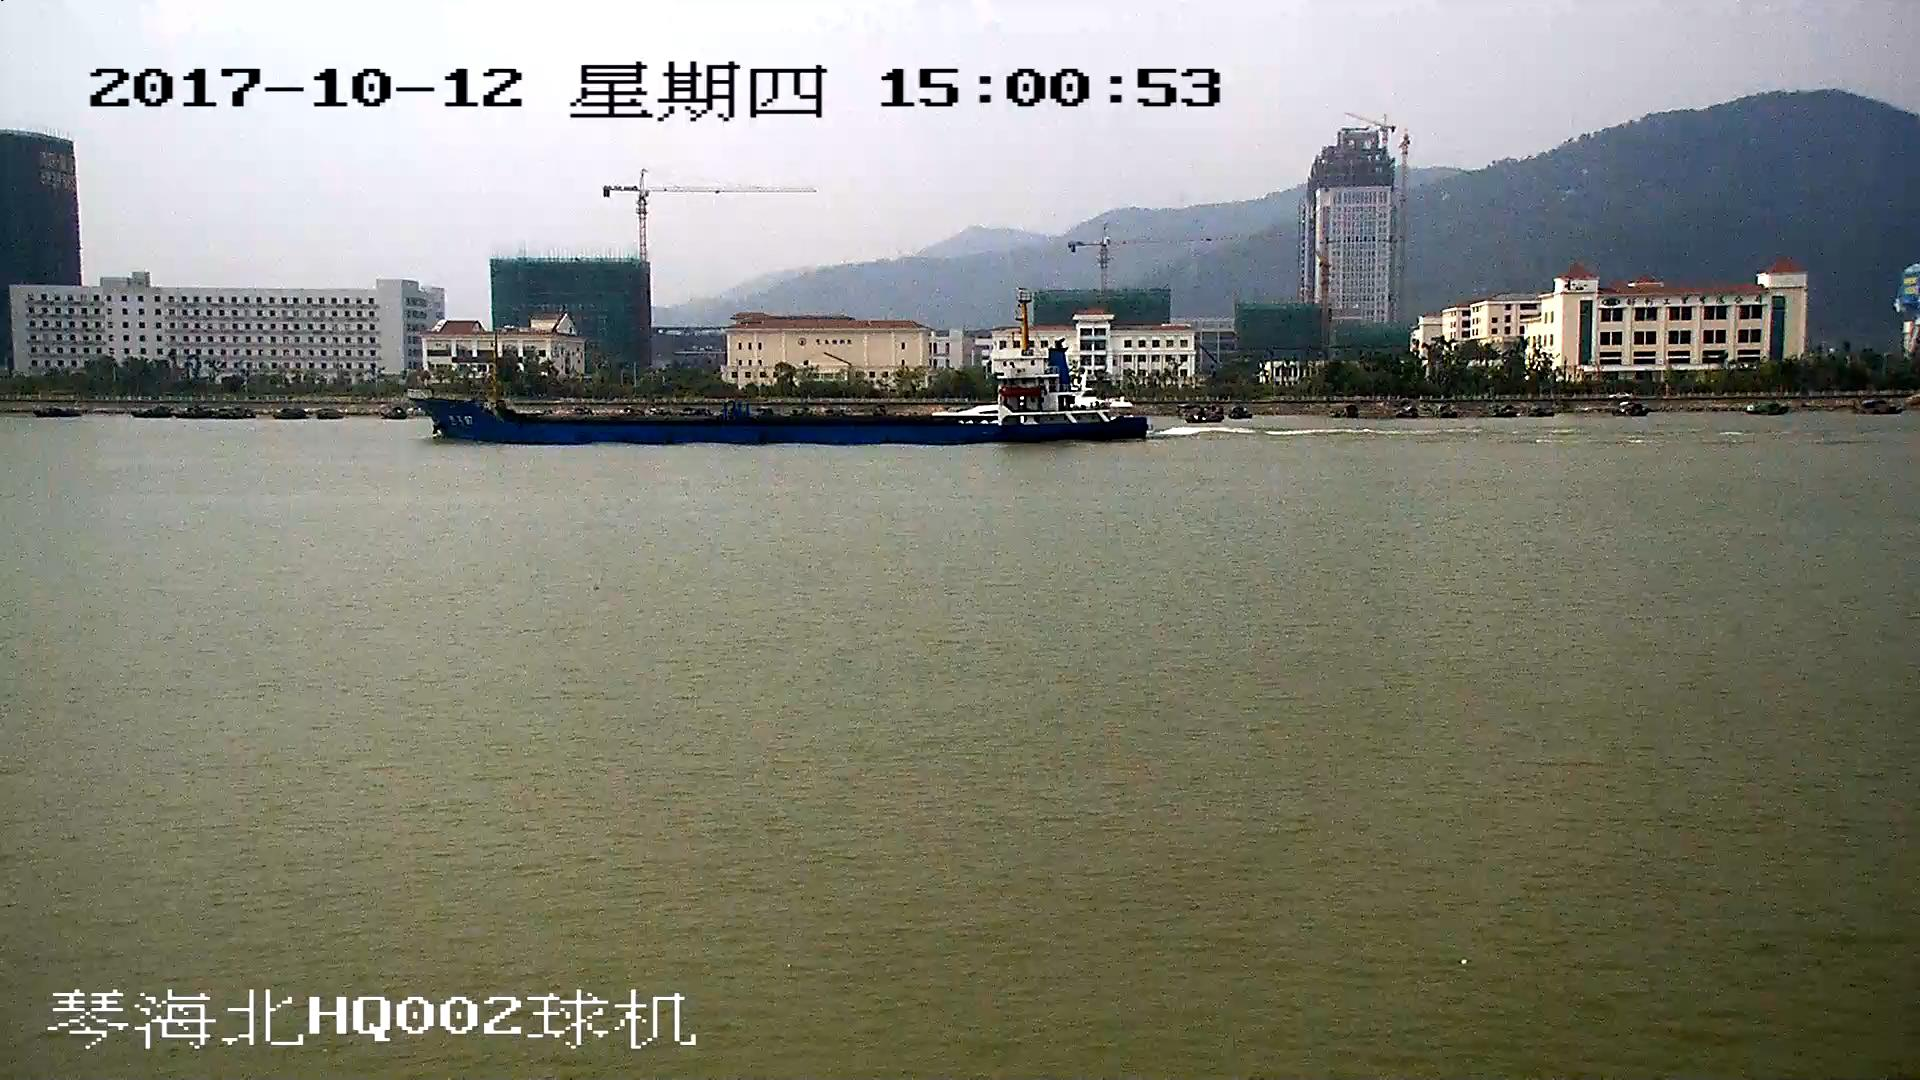general cargo ship: (412, 297, 1143, 445)
